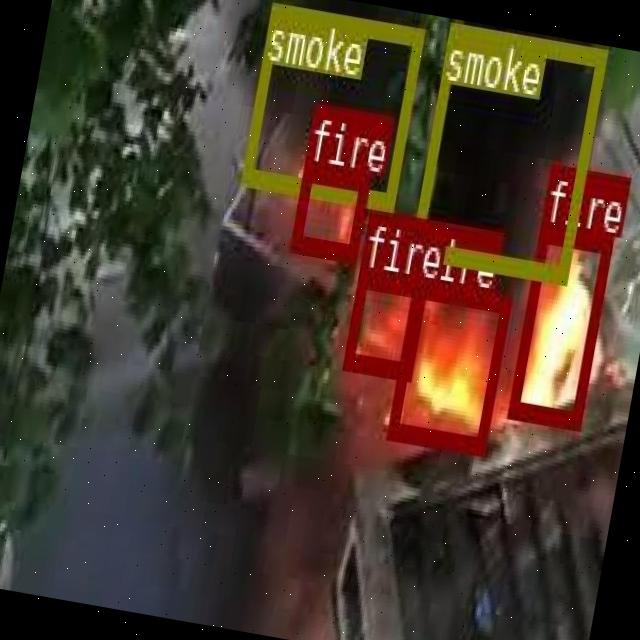fire: (385, 274, 511, 453), (506, 220, 612, 427), (343, 266, 427, 376), (289, 162, 369, 259)
smoke: (410, 22, 605, 281), (241, 0, 422, 206)
